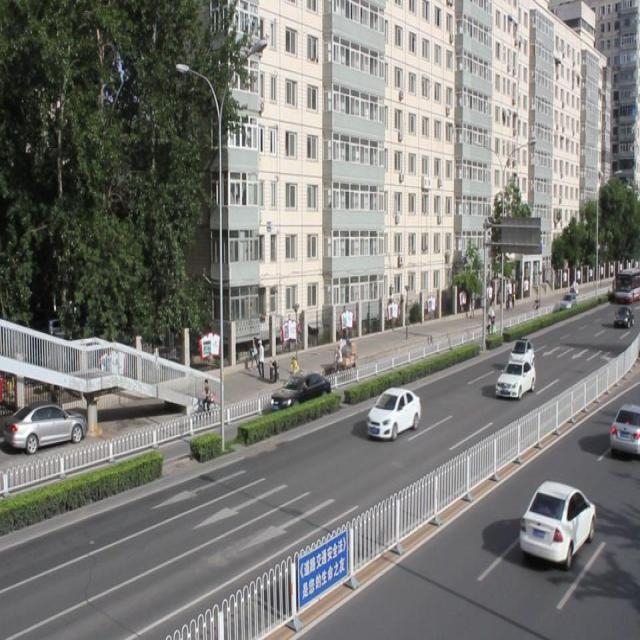car: (517, 479, 595, 563), (364, 384, 420, 440), (270, 369, 330, 411), (606, 402, 640, 457), (493, 357, 534, 402), (505, 336, 534, 368)
